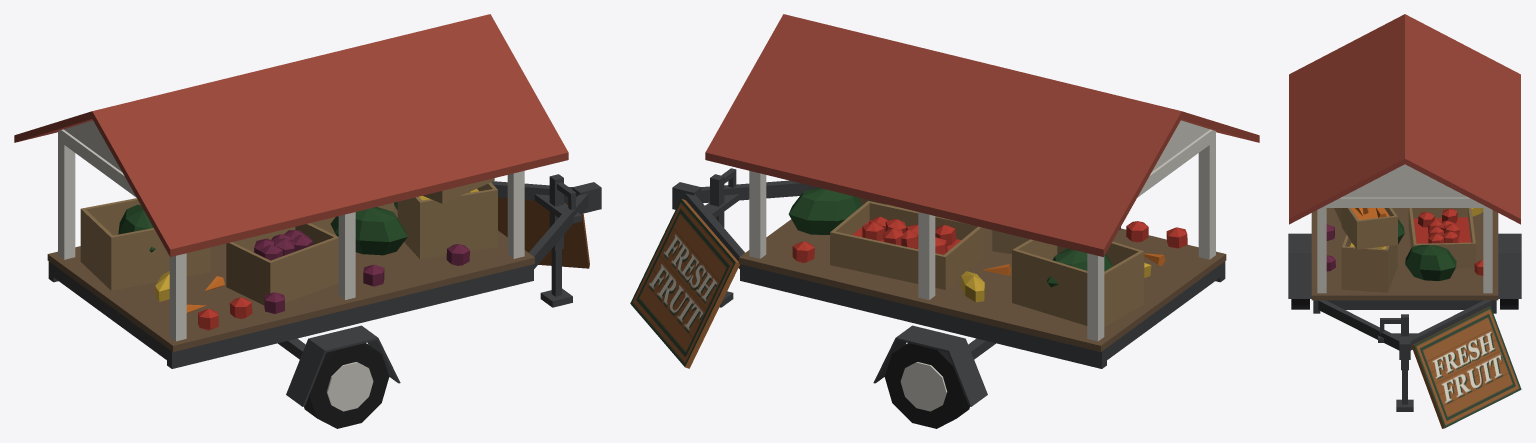
The model's file is produce-stall.glb.
The picture shows the model from 3 angles, left to right: view 1: azimuth 30°, elevation 25°; view 2: azimuth 150°, elevation 25°; view 3: azimuth 270°, elevation 25°; orthographic projection. The views are drawn at different scales.
Visible parts, largest first — view 1: ProduceStall; view 2: ProduceStall; view 3: ProduceStall.
Boxes of the visible parts, <box> form: ProduceStall: <box>14,14,601,428</box>; ProduceStall: <box>630,14,1259,428</box>; ProduceStall: <box>1288,14,1521,428</box>.
Bounding box in the file's own units: 4.35 × 2.4 × 2.25.
12 materials, 1 textured.
